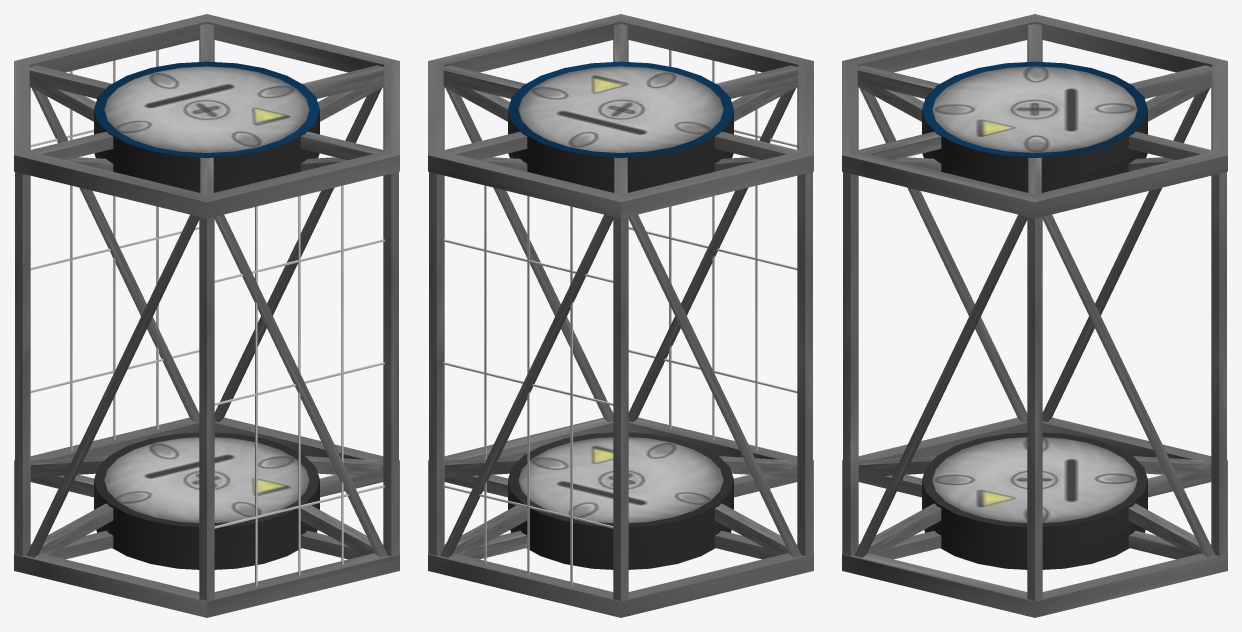
File: HalfHexTruss.FBX
3 views of the same model, side by side, from view 1: azimuth 30°, elevation 25°; view 2: azimuth 150°, elevation 25°; view 3: azimuth 270°, elevation 25° (orthographic).
Parts seen in each view (by area): view 1: EndCap007, EndBeam002, EndCap012, EndBeam003, Pole001, Pole003, Pole002, CrossBeam007, CrossBeam006, EndCap013, CrossBeam009, CrossBeam005 (+18 smaller); view 2: EndCap007, EndBeam002, EndCap012, EndBeam003, Pole004, Pole003, Pole005, CrossBeam008, CrossBeam009, EndCap013, CrossBeam006, CrossBeam004 (+18 smaller); view 3: EndCap007, EndBeam002, EndCap012, EndBeam003, Pole006, Pole002, Pole005, CrossBeam004, CrossBeam005, EndCap013, CrossBeam007, CrossBeam008 (+12 smaller).
Boxes of the visible parts, bbox=[...] form: EndCap007: bbox=[94, 61, 319, 177]; EndBeam002: bbox=[14, 14, 399, 218]; EndCap012: bbox=[94, 432, 319, 548]; EndBeam003: bbox=[14, 417, 399, 617]; Pole001: bbox=[199, 217, 214, 600]; Pole003: bbox=[15, 172, 30, 555]; Pole002: bbox=[383, 172, 398, 555]; CrossBeam007: bbox=[26, 214, 199, 557]; CrossBeam006: bbox=[214, 214, 387, 557]; EndCap013: bbox=[94, 502, 319, 569]; CrossBeam009: bbox=[31, 88, 199, 422]; CrossBeam005: bbox=[214, 88, 381, 422]; EndCap007: bbox=[508, 61, 733, 177]; EndBeam002: bbox=[428, 14, 813, 218]; EndCap012: bbox=[508, 432, 733, 548]; EndBeam003: bbox=[428, 417, 813, 617]; Pole004: bbox=[613, 217, 628, 600]; Pole003: bbox=[797, 172, 812, 555]; Pole005: bbox=[429, 172, 444, 555]; CrossBeam008: bbox=[628, 214, 801, 557]; CrossBeam009: bbox=[440, 214, 613, 557]; EndCap013: bbox=[508, 502, 733, 569]; CrossBeam006: bbox=[628, 88, 795, 422]; CrossBeam004: bbox=[445, 88, 613, 422]; EndCap007: bbox=[922, 61, 1147, 177]; EndBeam002: bbox=[842, 14, 1227, 218]; EndCap012: bbox=[922, 432, 1147, 548]; EndBeam003: bbox=[842, 417, 1227, 617]; Pole006: bbox=[1027, 217, 1042, 600]; Pole002: bbox=[843, 172, 858, 555]; Pole005: bbox=[1211, 172, 1226, 555]; CrossBeam004: bbox=[854, 214, 1027, 557]; CrossBeam005: bbox=[1042, 214, 1215, 557]; EndCap013: bbox=[922, 502, 1147, 569]; CrossBeam007: bbox=[859, 88, 1027, 422]; CrossBeam008: bbox=[1042, 88, 1209, 422].
Size of what is drawn, in the model's own units: 2.46 by 2.13 by 2.54.
1 material, 1 textured.
